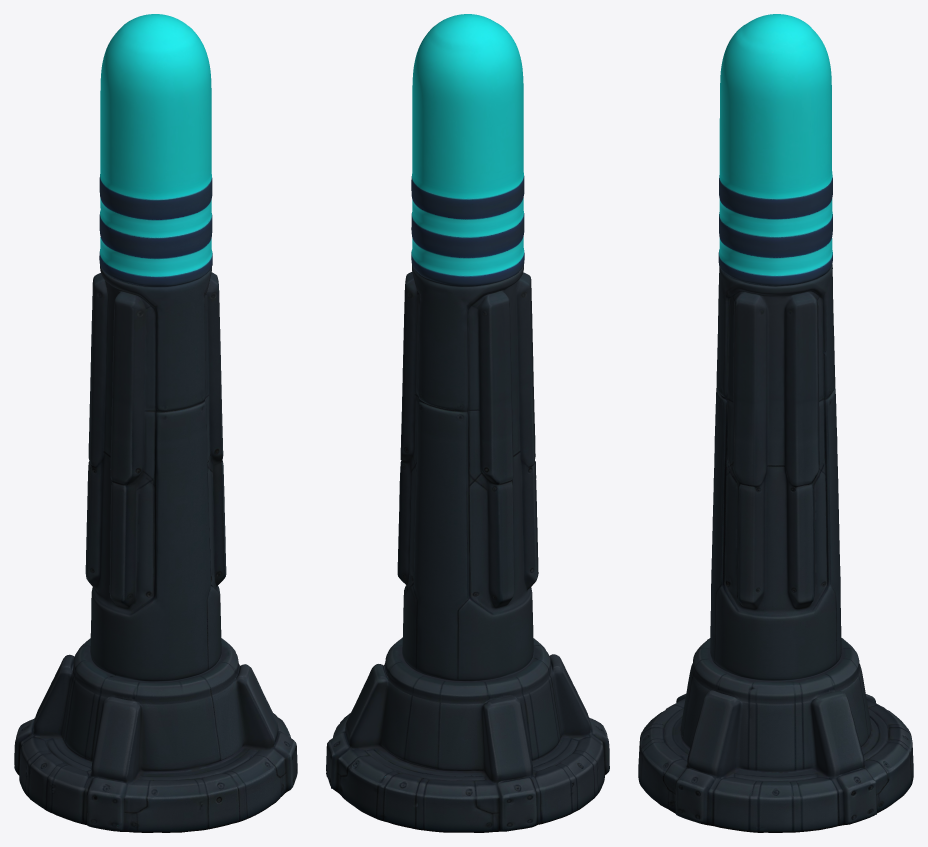
File: 차량유도봉_2.fbx
3 views of the same model, side by side, from view 1: azimuth 30°, elevation 25°; view 2: azimuth 150°, elevation 25°; view 3: azimuth 270°, elevation 25° (orthographic).
Parts seen in each view (by area): view 1: tripo_node_40ef5e6d; view 2: tripo_node_40ef5e6d; view 3: tripo_node_40ef5e6d.
Boxes of the visible parts, x1,y1,x2,y2 form: tripo_node_40ef5e6d: [14, 14, 297, 832]; tripo_node_40ef5e6d: [326, 14, 609, 832]; tripo_node_40ef5e6d: [638, 14, 913, 832].
Bounding box in the file's own units: 32.3 × 97.87 × 32.27.
Materials: 1 (1 with a texture image).
